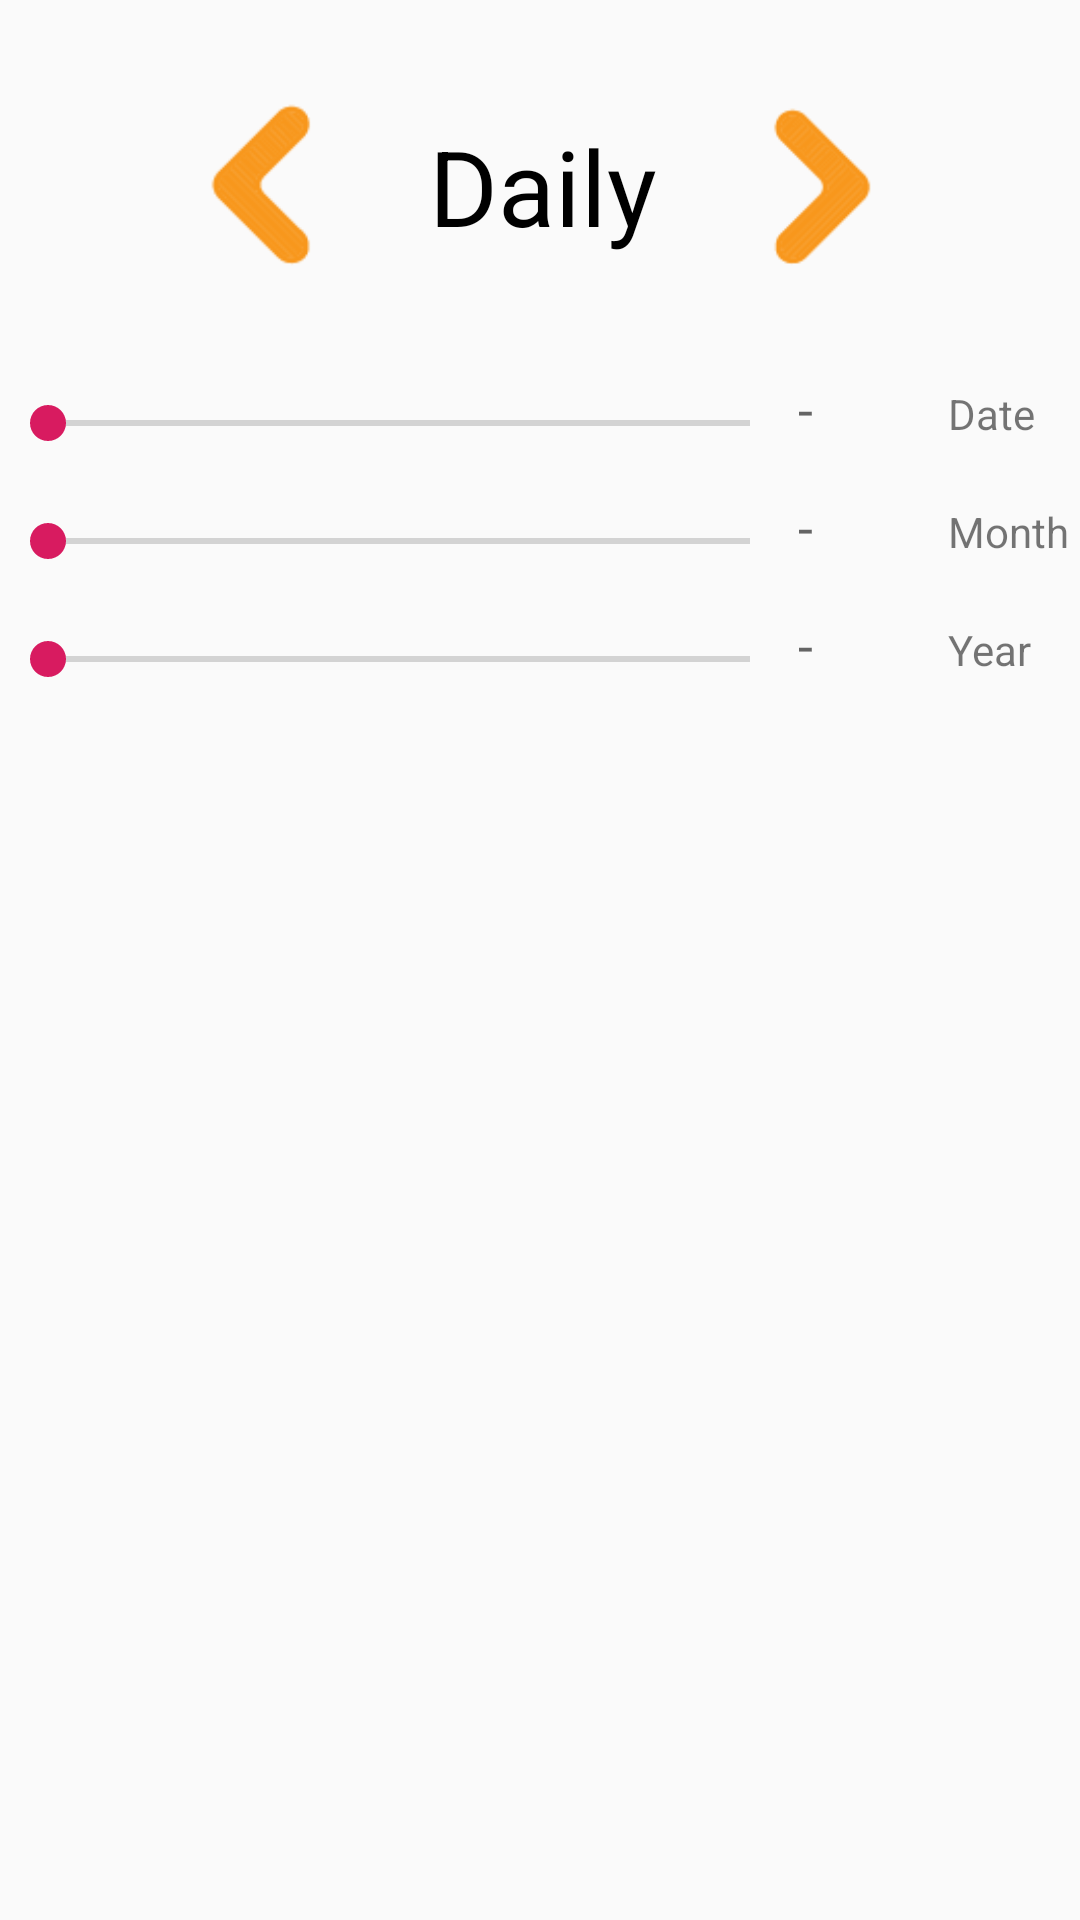

Icons on this 1080 × 1920 Android screen, each with its box as [left=x1, top=y1, right=x2, bottom=y2]:
left arrow: [left=211, top=105, right=310, bottom=264]
right arrow: [left=774, top=109, right=871, bottom=264]
